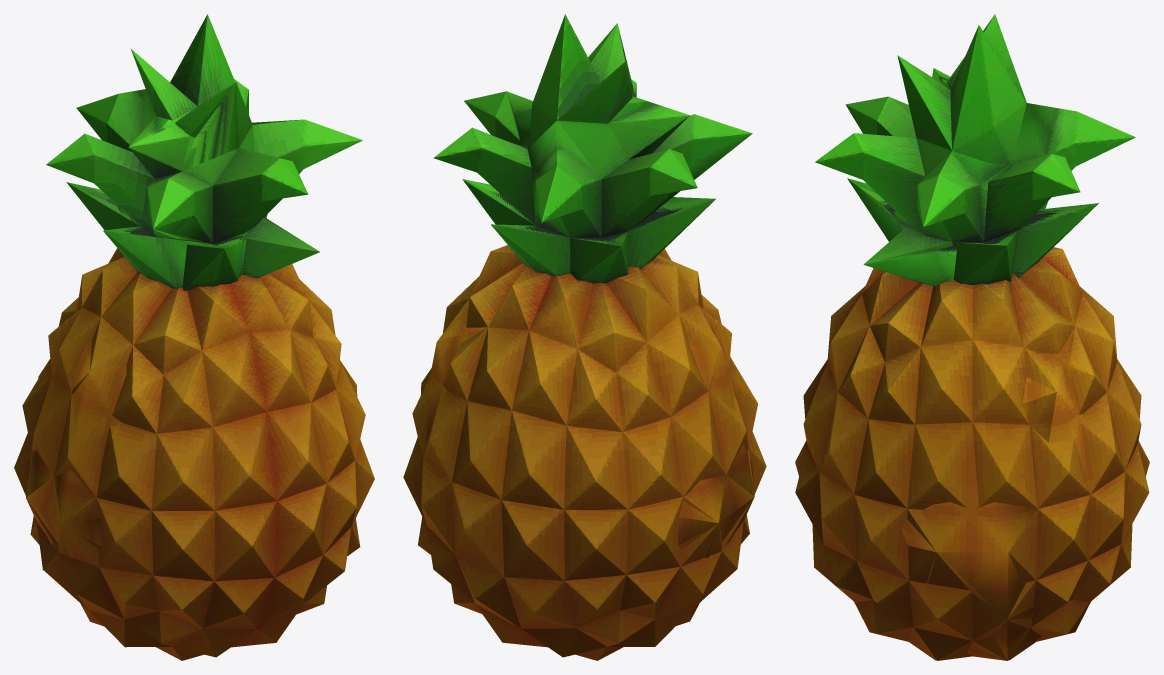
The model's file is item_pineapple.glb.
3 renders of one model, left to right at view 1: azimuth 30°, elevation 25°; view 2: azimuth 150°, elevation 25°; view 3: azimuth 270°, elevation 25°, orthographic.
Visible parts, largest first — view 1: Pineapple; view 2: Pineapple; view 3: Pineapple.
Boxes of the visible parts, x1=… form: Pineapple: x1=14, y1=14, x2=374, y2=660; Pineapple: x1=403, y1=14, x2=766, y2=660; Pineapple: x1=795, y1=14, x2=1149, y2=660.
Size of the model in its own units: 0.1438 by 0.2808 by 0.1439.
1 material, 1 textured.
